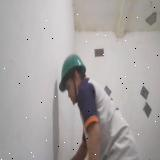Helmet: (58, 54, 88, 94)
